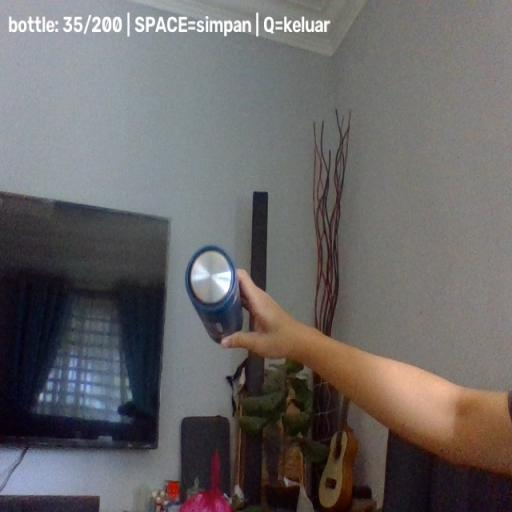Bottle: (184, 243, 244, 345)
